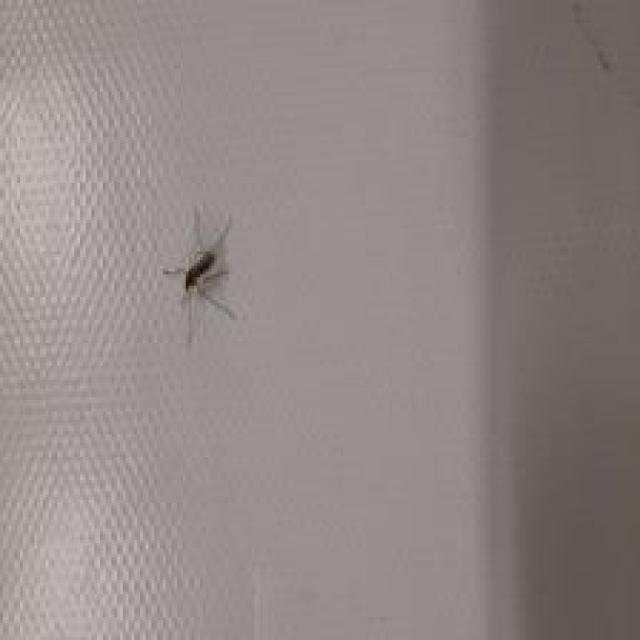Culex: (160, 203, 237, 346)
